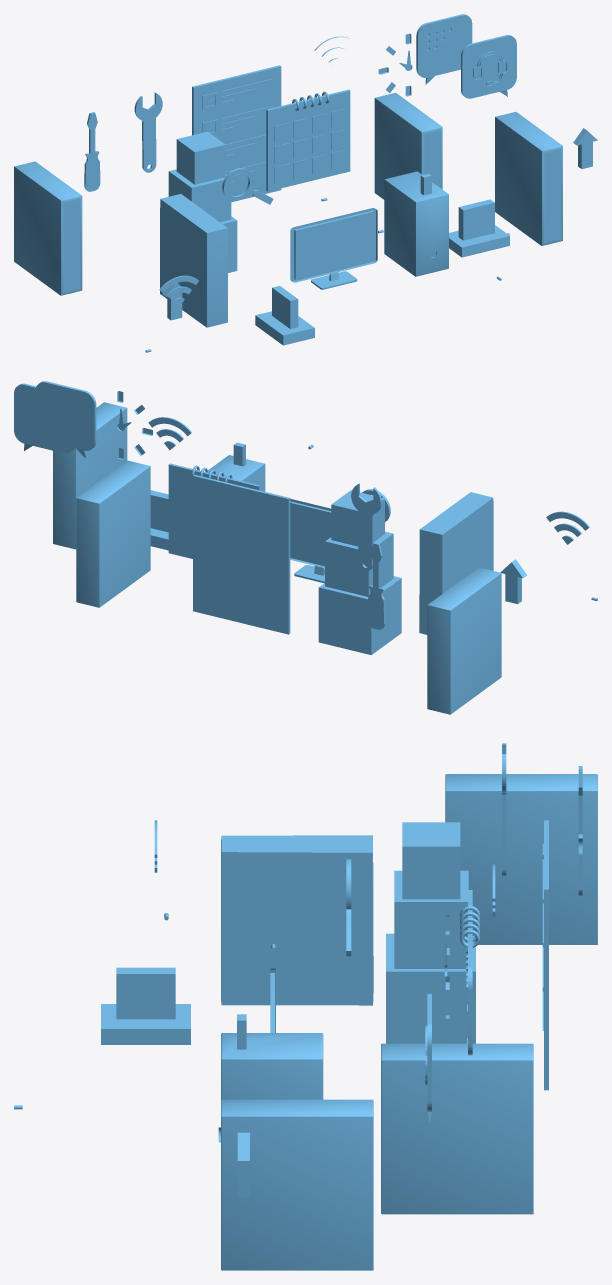
File: saperated_copy.glb
3 views of the same model, one above another, from view 1: azimuth 30°, elevation 25°; view 2: azimuth 150°, elevation 25°; view 3: azimuth 270°, elevation 25° (orthographic). The views are drawn at different scales.
Parts seen in each view (by area): view 1: Cube.086, Cube.005, Cube.085, Cube.009, box, Cube.087, Cube.024, Cube.010, Cube.014, Cube.013, Cube.008, Cube.007 (+12 smaller); view 2: Cube.009, Cube.087, Cube.086, Cube.085, Cube.005, Cube.006, Cube.013, Cube.007, Cube.010, Cube.024, Cube.008, Cube.014 (+7 smaller); view 3: Cube.087, Cube.005, Cube.085, Cube.086, box, Cube.006, Cube.007, Cube.008, Cube.022, Cube.021, Cube.009, Cube.110.
Part boxes in pixels (x1,y1,x2,y2): Cube.086: (14, 161, 82, 295); Cube.005: (495, 112, 562, 245); Cube.085: (160, 194, 227, 327); Cube.009: (192, 65, 281, 202); box: (384, 171, 448, 276); Cube.087: (374, 92, 442, 199); Cube.024: (290, 208, 377, 282); Cube.010: (266, 89, 350, 191); Cube.014: (461, 35, 516, 98); Cube.013: (416, 14, 472, 84); Cube.008: (176, 131, 225, 184); Cube.007: (168, 169, 231, 222); Cube.009: (193, 474, 290, 634); Cube.087: (76, 460, 150, 607); Cube.086: (427, 567, 501, 714); Cube.085: (419, 492, 493, 634); Cube.005: (53, 402, 127, 549); Cube.006: (318, 576, 401, 655); Cube.013: (35, 381, 96, 458); Cube.007: (325, 531, 393, 596); Cube.010: (168, 463, 260, 558); Cube.024: (290, 498, 331, 568); Cube.008: (331, 490, 384, 546); Cube.014: (14, 383, 73, 453); Cube.087: (381, 1043, 533, 1214); Cube.005: (221, 1099, 373, 1270); Cube.085: (221, 835, 373, 1005); Cube.086: (445, 774, 597, 944); box: (221, 1033, 323, 1099); Cube.006: (386, 933, 475, 1043); Cube.007: (394, 870, 468, 968); Cube.008: (402, 822, 460, 899); Cube.022: (116, 967, 175, 1019); Cube.021: (101, 1004, 190, 1044); Cube.009: (544, 820, 548, 1090); Cube.110: (237, 1132, 249, 1197).
Size of what is drawn, in the model's own units: 17.32 by 6.2 by 11.41.
